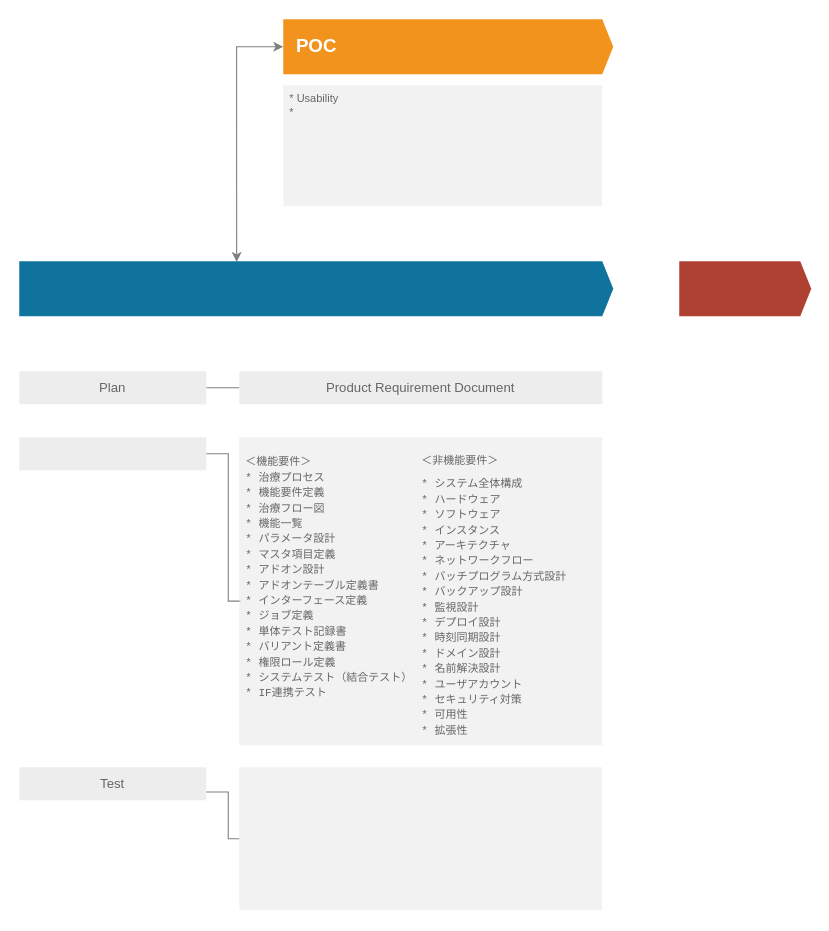
This 829x931 diagram has some shape labels left out. The shapes that lost their labels are listed below. From the top down, each one's centre as x and y in pixels, then its label:
At pixel 316 288: "設計開発".
At pixel 745 288: "ISO試験".
At pixel 112 453: "Requirement Definition".
At pixel 420 838: "* 単体テスト * システムテスト * 疎通テスト * IF連携テスト * 結合テスト * 運用テスト".
